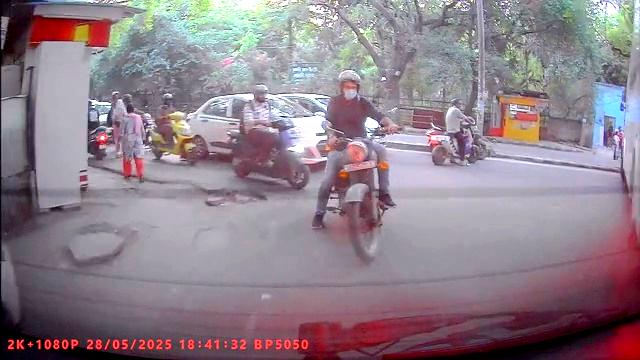motorcycle_with_helmet: (309, 68, 400, 263), (225, 82, 310, 190), (148, 91, 199, 165), (427, 97, 479, 168)
